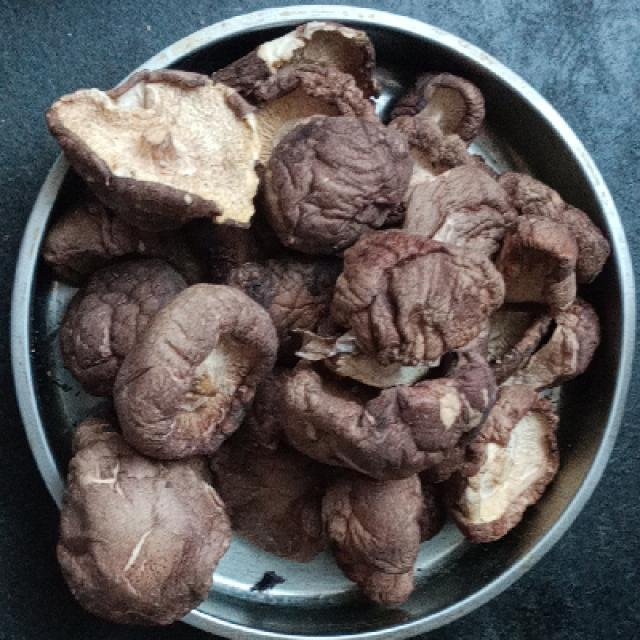Lentinus edodes: (51, 417, 233, 624), (46, 70, 264, 233), (116, 278, 274, 460), (263, 116, 418, 256), (342, 237, 492, 364), (458, 386, 562, 547)
